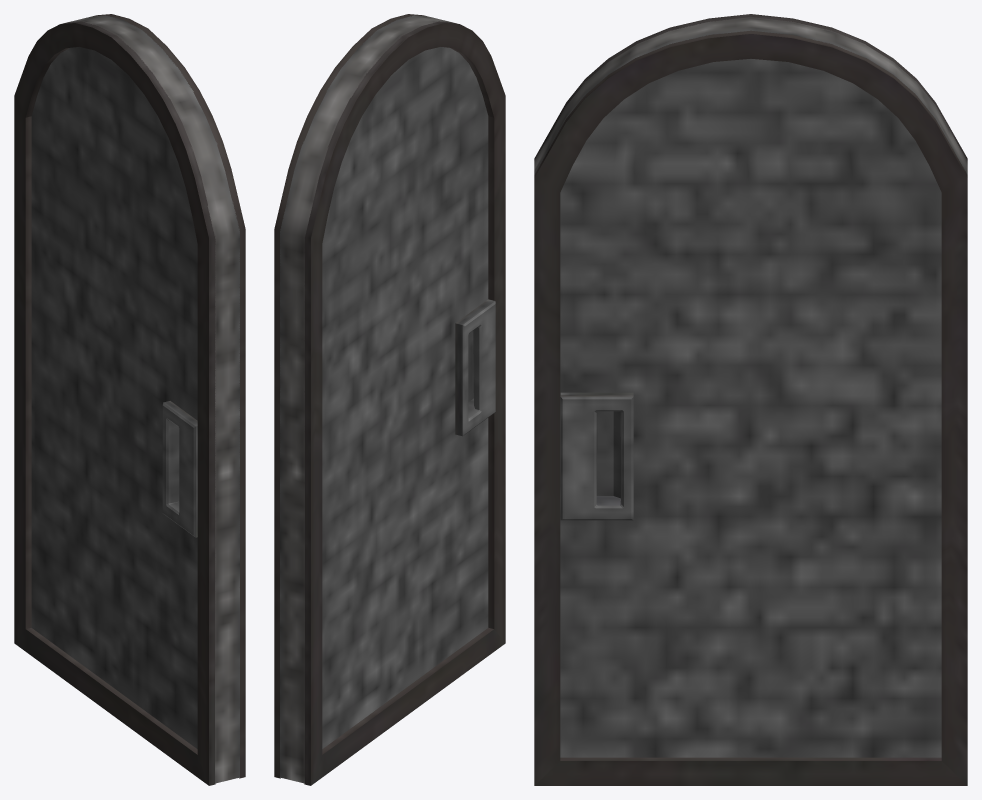
The model's file is SM_Door_Stone_a1e758.glb.
3 renders of one model, left to right at view 1: azimuth 30°, elevation 25°; view 2: azimuth 150°, elevation 25°; view 3: azimuth 270°, elevation 25°, orthographic. The views are drawn at different scales.
Size of the model in its own units: 0.1499 by 2.3 by 1.2.
1 material, 1 textured.
